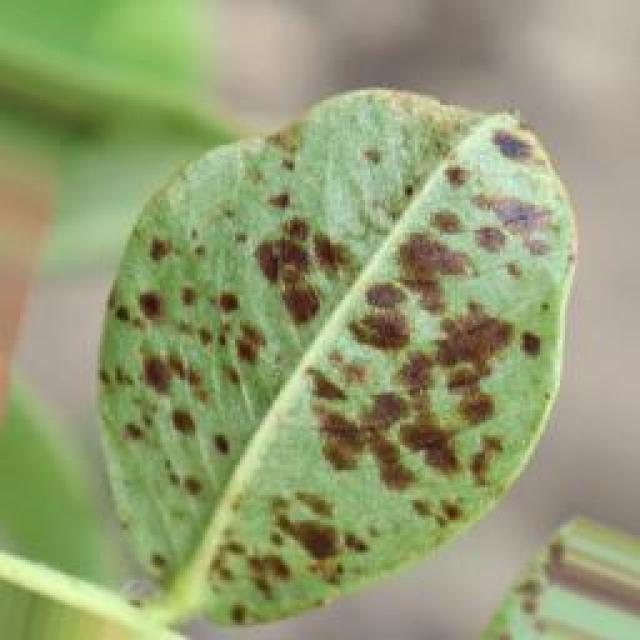Whitefly: (99, 94, 554, 600)
